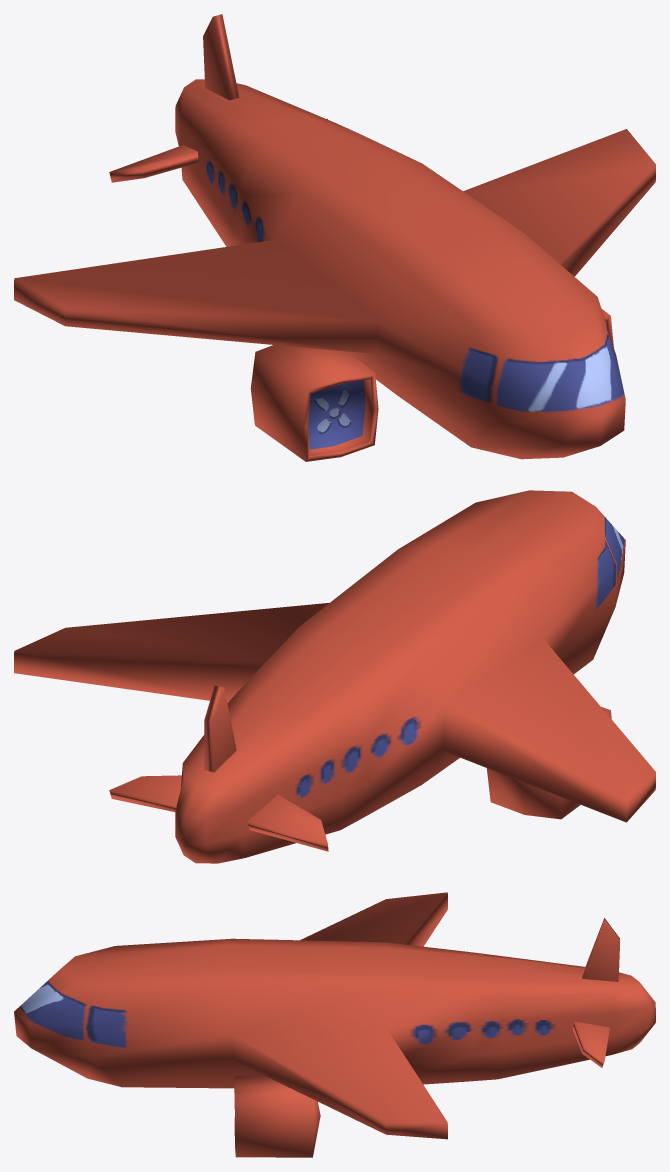
The model's file is Aviao2.fbx.
The picture shows the model from 3 angles, top to bottom: view 1: azimuth 30°, elevation 25°; view 2: azimuth 150°, elevation 25°; view 3: azimuth 270°, elevation 25°; orthographic projection. The views are drawn at different scales.
Visible parts, largest first — view 1: Cube, Cube.001, Cube.002, Cube.003; view 2: Cube, Cube.003, Cube.001, Cube.002; view 3: Cube, Cube.001, Cube.002, Cube.003.
Boxes of the visible parts, x1=… form: Cube: x1=14, y1=79, x2=655, y2=459; Cube.001: x1=250, y1=308, x2=613, y2=461; Cube.002: x1=203, y1=14, x2=239, y2=100; Cube.003: x1=109, y1=118, x2=327, y2=182; Cube: x1=14, y1=490, x2=655, y2=863; Cube.003: x1=109, y1=775, x2=328, y2=851; Cube.001: x1=486, y1=707, x2=611, y2=819; Cube.002: x1=204, y1=685, x2=236, y2=772; Cube: x1=14, y1=892, x2=655, y2=1139; Cube.001: x1=234, y1=1075, x2=320, y2=1157; Cube.002: x1=582, y1=918, x2=619, y2=981; Cube.003: x1=572, y1=1021, x2=609, y2=1067.
Bounding box in the file's own units: 5343 × 1981 × 6300.
1 material, 1 textured.
